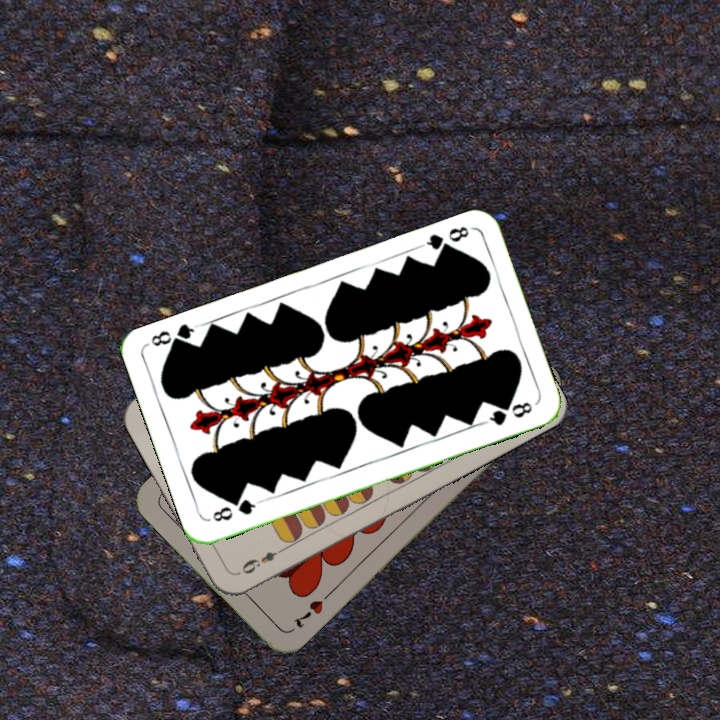E9: (237, 543, 288, 577)
G8: (416, 222, 474, 258), (208, 495, 263, 525)
H7: (289, 596, 326, 631)
